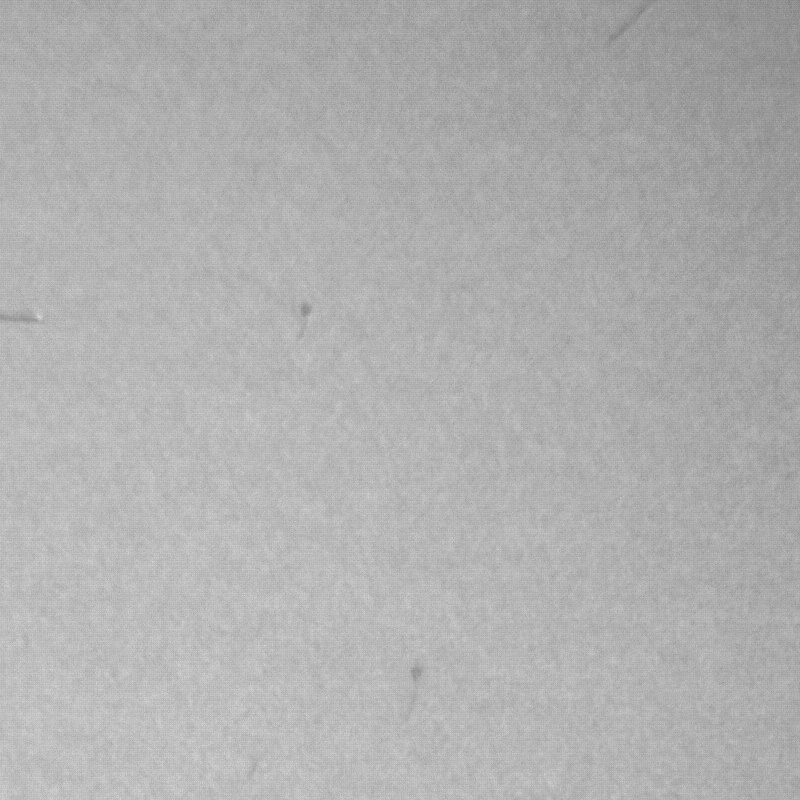defect: (602, 1, 652, 49), (410, 661, 426, 722), (298, 301, 307, 342), (2, 312, 45, 319)
